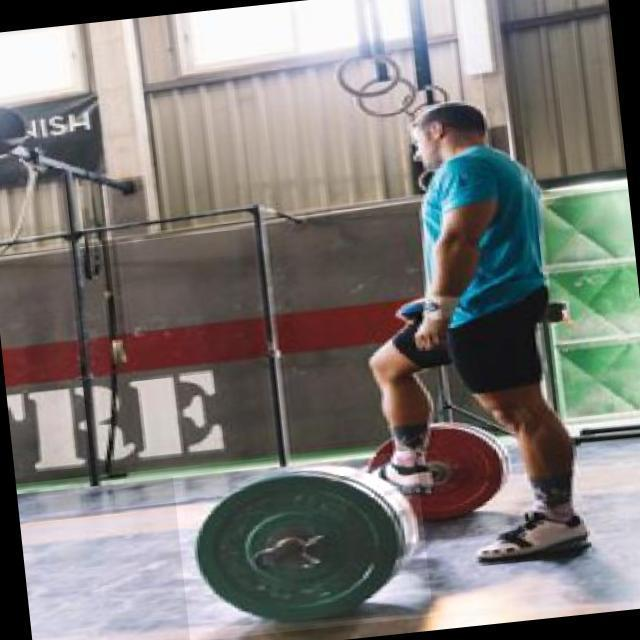barbell: (173, 450, 433, 640)
